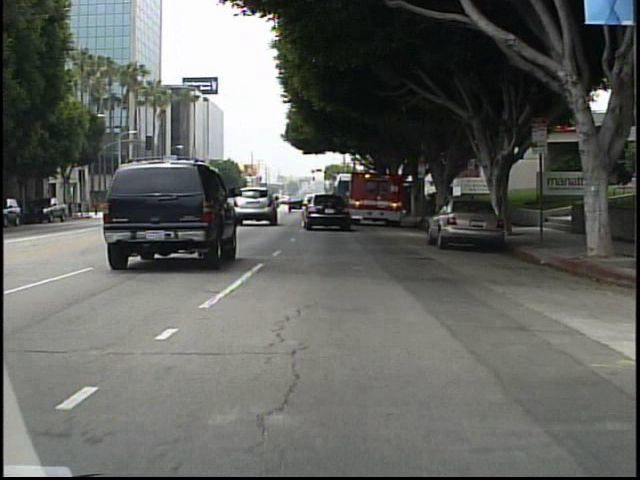person: (92, 197, 104, 218)
